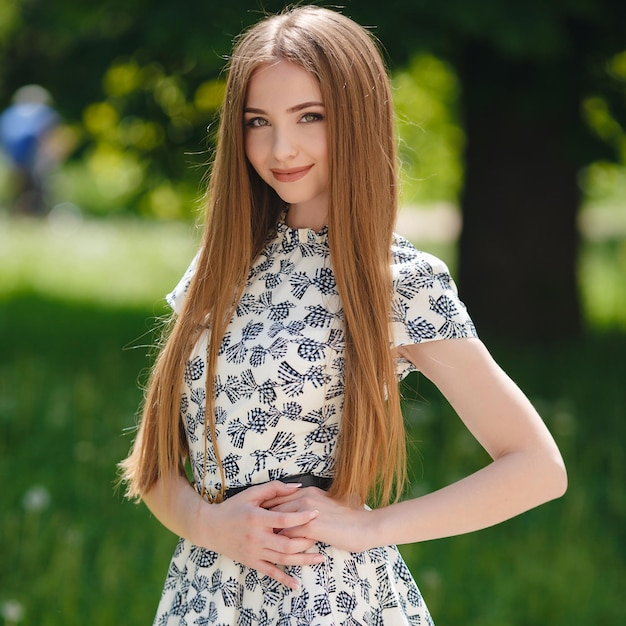teen: (208, 6, 385, 252)
